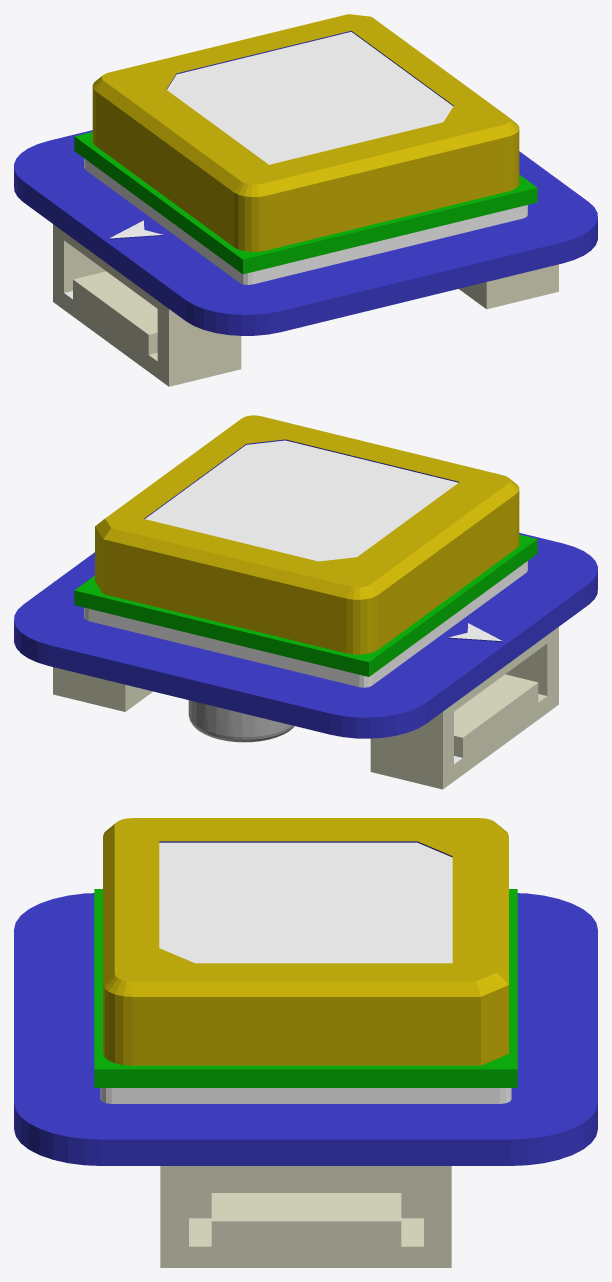
File: model_matek_m8q-CdBX-ate.glb
3 renders of one model, top to bottom at view 1: azimuth 30°, elevation 25°; view 2: azimuth 150°, elevation 25°; view 3: azimuth 270°, elevation 25°, orthographic. The views are drawn at different scales.
Bounding box in the file's own units: 20 × 9.4 × 20.
